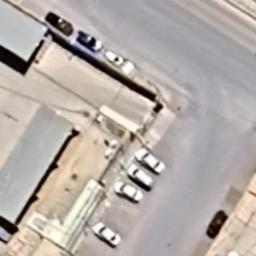sedan: (135, 146, 167, 176), (90, 220, 122, 247), (204, 208, 231, 240), (44, 10, 74, 38), (125, 162, 154, 190), (75, 30, 104, 52), (114, 180, 142, 202)
